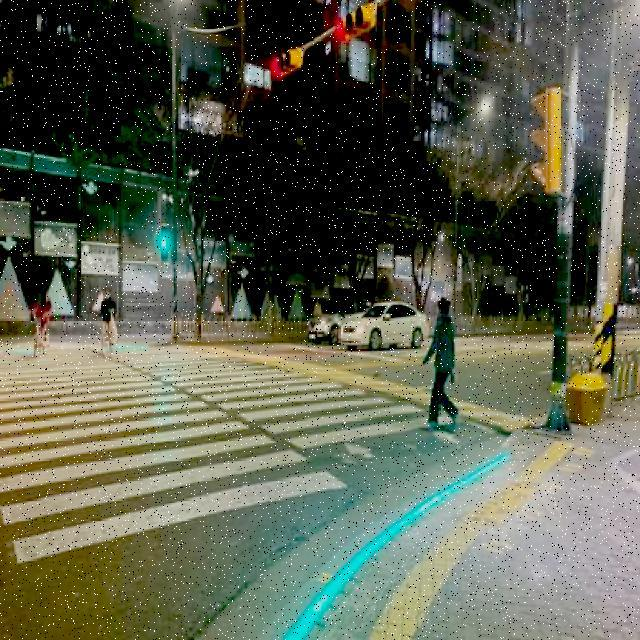crosswalk: (0, 329, 469, 561)
